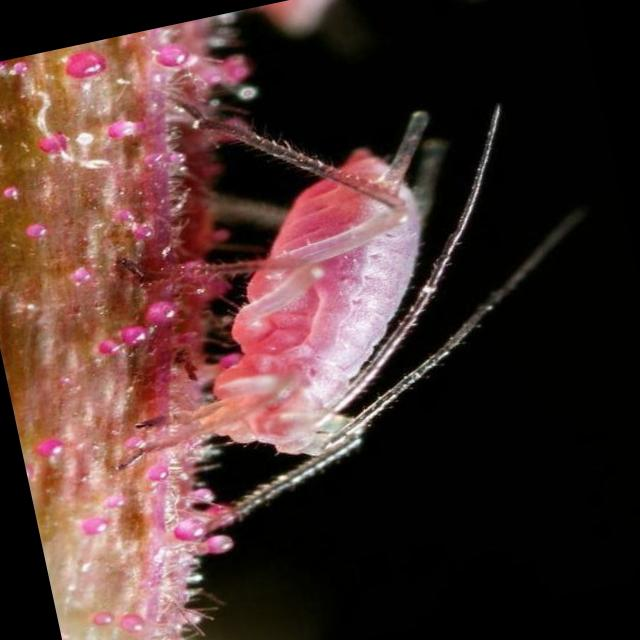aphid: (12, 54, 585, 576)
